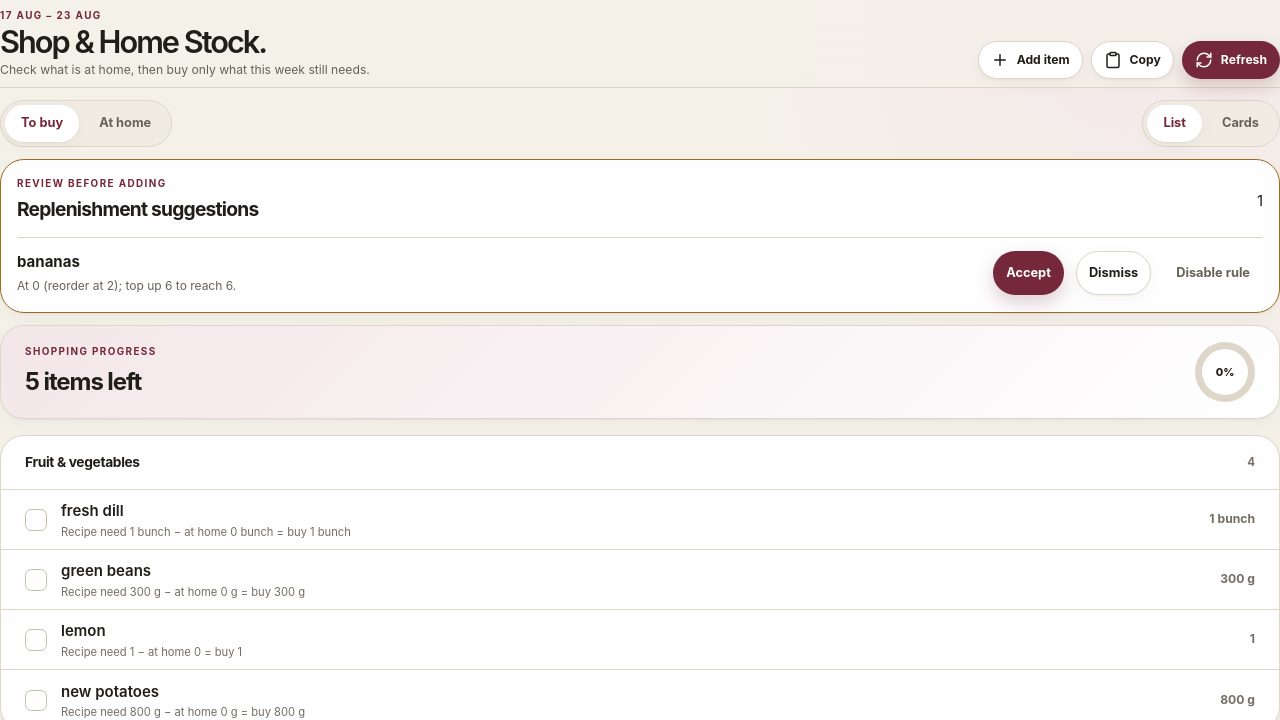
Test: ShoppingPage Home Stock › persists a dismissed suggestion without adding bananas to shopping
Click the button "Dismiss": (1114, 273) 1076,251 -> 1151,295
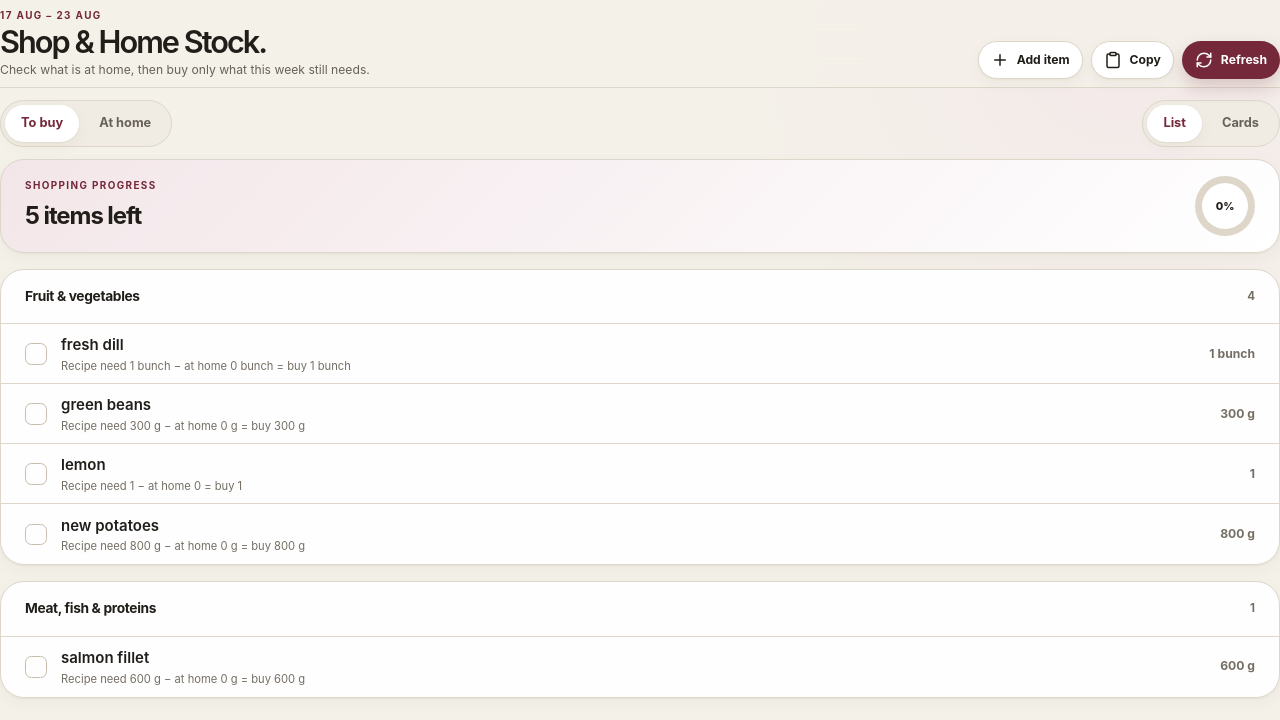
Result: the text "Replenishment suggestions" is gone
